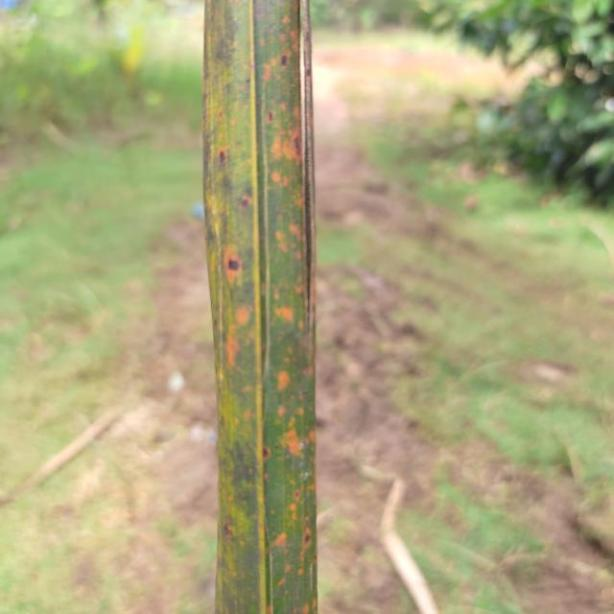Kalium: (203, 0, 319, 612)
